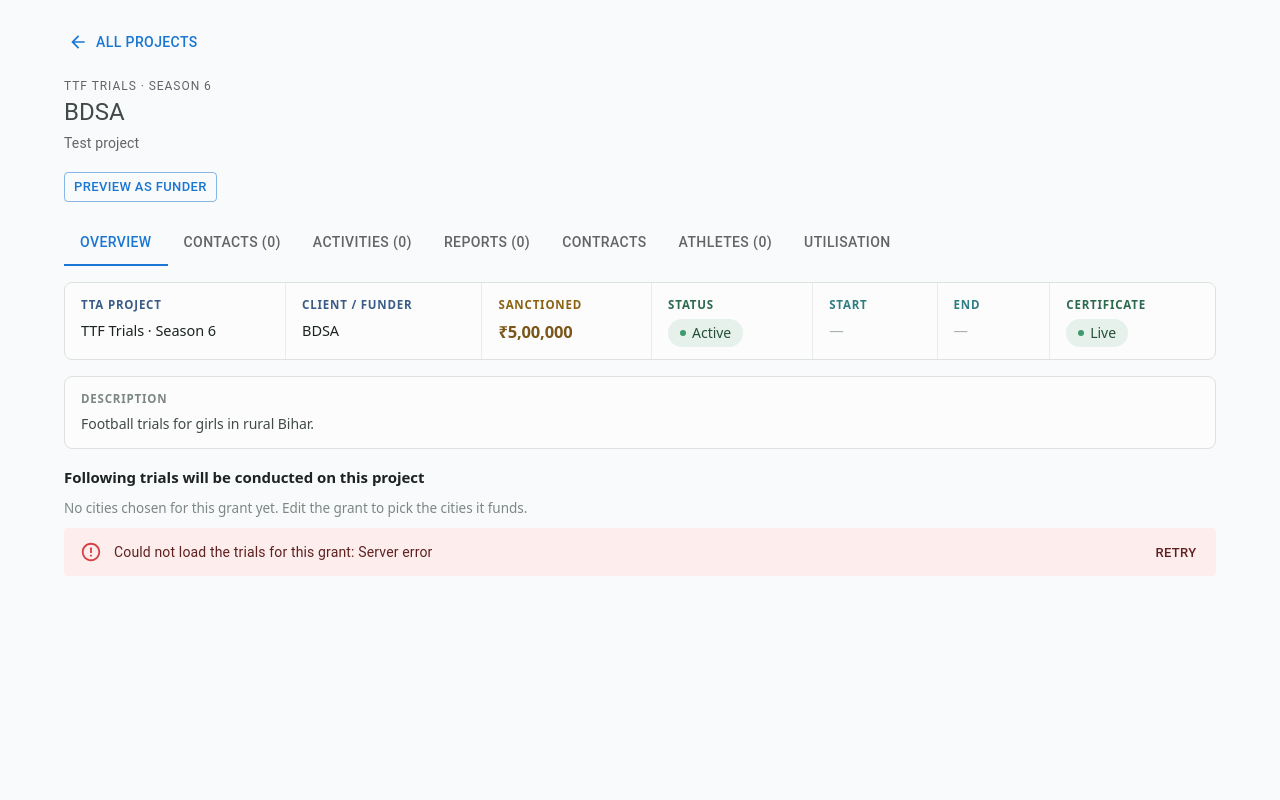
it: a failed load is an error with a retry, never "no trials"
Expected: the text "Could not load the trials for this grant: Server error" is shown, [114,544,432,560]
What coordinates should you click on to do the following:
click the button "Retry"
I would click on:
 (1176, 553)
Its box is [1144,538,1208,569].
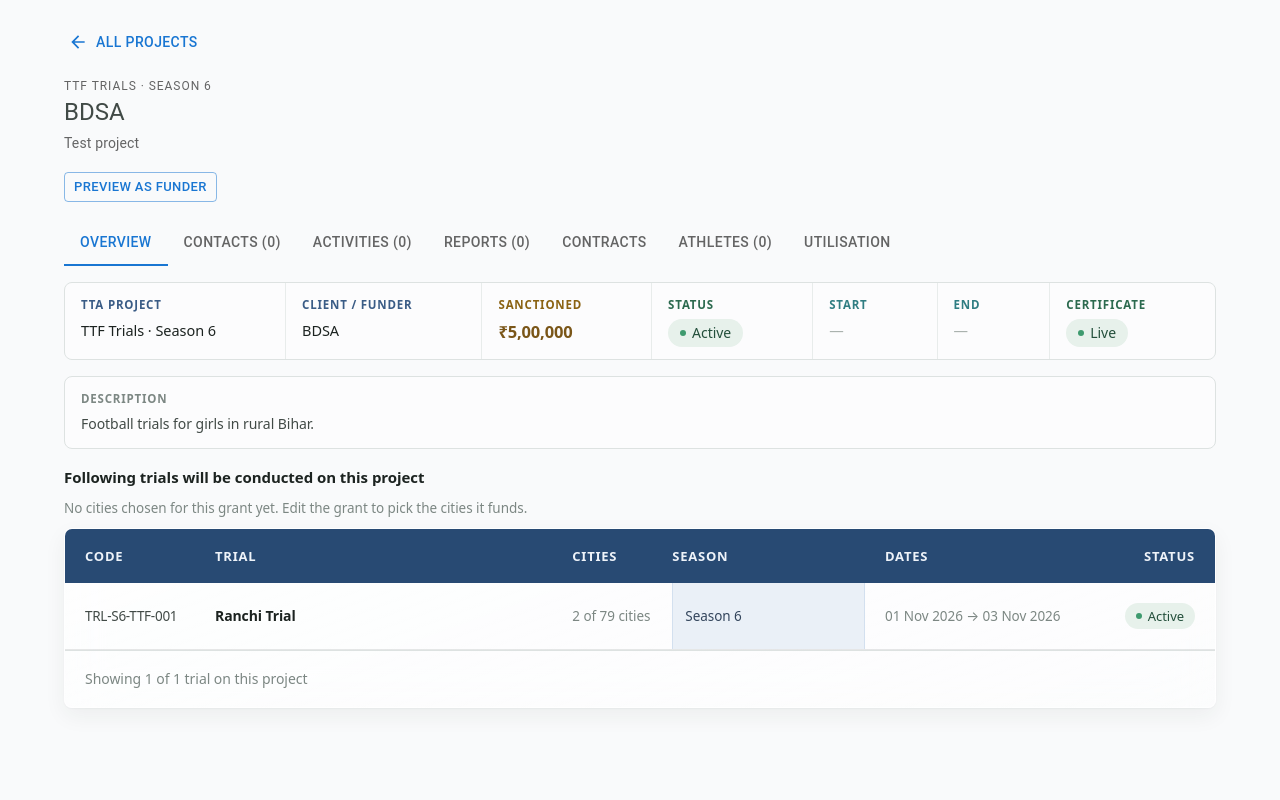
Expected: the text "Ranchi Trial" is shown, [215,606,296,625]
